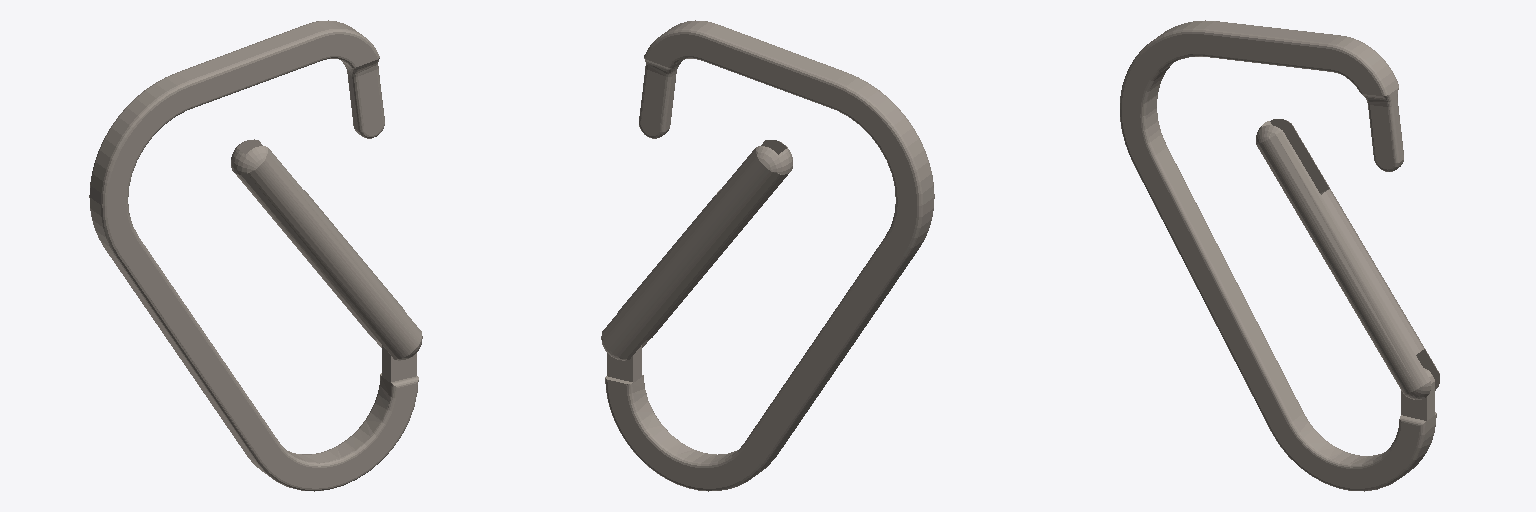
URDF robot description (safety_hook2):
<?xml version="1.0" encoding="utf-8"?>
<!-- This URDF was automatically created by SolidWorks to URDF Exporter! Originally created by Stephen Brawner (brawner@gmail.com) 
     Commit Version: 1.6.0-4-g7f85cfe  Build Version: 1.6.7995.38578
     For more information, please see http://wiki.ros.org/sw_urdf_exporter -->
<robot
  name="safety_hook2">
  <link
    name="base_link">
    <inertial>
      <origin
        xyz="-0.038059 3.6627E-07 0.030909"
        rpy="0 0 0" />
      <mass
        value="0.091619" />
      <inertia
        ixx="0.00015175"
        ixy="-1.4217E-09"
        ixz="3.0858E-05"
        iyy="0.00020773"
        iyz="1.3869E-09"
        izz="5.6672E-05" />
    </inertial>
    <visual>
      <origin
        xyz="0 0 0"
        rpy="0 0 0" />
      <geometry>
        <mesh
          filename="package://safety_hook2/meshes/base_link.STL" />
      </geometry>
      <material
        name="">
        <color
          rgba="0.65098 0.61961 0.58824 1" />
      </material>
    </visual>
    <collision>
      <origin
        xyz="0 0 0"
        rpy="0 0 0" />
      <geometry>
        <mesh
          filename="package://safety_hook2/meshes/hook_base_part_0.glb" />
      </geometry>
    </collision>
    <collision>
      <origin
        xyz="0 0 0"
        rpy="0 0 0" />
      <geometry>
        <mesh
          filename="package://safety_hook2/meshes/hook_base_part_1.glb" />
      </geometry>
    </collision>
    <collision>
      <origin
        xyz="0 0 0"
        rpy="0 0 0" />
      <geometry>
        <mesh
          filename="package://safety_hook2/meshes/hook_base_part_2.glb" />
      </geometry>
    </collision>
    <collision>
      <origin
        xyz="0 0 0"
        rpy="0 0 0" />
      <geometry>
        <mesh
          filename="package://safety_hook2/meshes/hook_base_part_3.glb" />
      </geometry>
    </collision>
    <collision>
      <origin
        xyz="0 0 0"
        rpy="0 0 0" />
      <geometry>
        <mesh
          filename="package://safety_hook2/meshes/hook_base_part_4.glb" />
      </geometry>
    </collision>
    <collision>
      <origin
        xyz="0 0 0"
        rpy="0 0 0" />
      <geometry>
        <mesh
          filename="package://safety_hook2/meshes/hook_base_part_5.glb" />
      </geometry>
    </collision>
    <collision>
      <origin
        xyz="0 0 0"
        rpy="0 0 0" />
      <geometry>
        <mesh
          filename="package://safety_hook2/meshes/hook_base_part_6.glb" />
      </geometry>
    </collision>
    <collision>
      <origin
        xyz="0 0 0"
        rpy="0 0 0" />
      <geometry>
        <mesh
          filename="package://safety_hook2/meshes/hook_base_part_7.glb" />
      </geometry>
    </collision>
    <collision>
      <origin
        xyz="0 0 0"
        rpy="0 0 0" />
      <geometry>
        <mesh
          filename="package://safety_hook2/meshes/hook_base_part_8.glb" />
      </geometry>
    </collision>
  </link>
  <link
    name="bar_Link">
    <inertial>
      <origin
        xyz="-0.0036666 -6.5586E-10 0.031652"
        rpy="0 0 0" />
      <mass
        value="0.03889" />
      <inertia
        ixx="1.4254E-05"
        ixy="-9.6088E-14"
        ixz="3.1646E-06"
        iyy="1.494E-05"
        iyz="7.2379E-13"
        izz="1.23E-06" />
    </inertial>
    <visual>
      <origin
        xyz="0 0 0"
        rpy="0 0 0" />
      <geometry>
        <mesh
          filename="package://safety_hook2/meshes/bar_Link.STL" />
      </geometry>
      <material
        name="">
        <color
          rgba="0.65098 0.61961 0.58824 1" />
      </material>
    </visual>
    <collision>
      <origin
        xyz="0 0 0"
        rpy="0 0 0" />
      <geometry>
        <mesh
          filename="package://safety_hook2/meshes/hook_bar_part_0.glb" />
      </geometry>
    </collision>
    <collision>
      <origin
        xyz="0 0 0"
        rpy="0 0 0" />
      <geometry>
        <mesh
          filename="package://safety_hook2/meshes/hook_bar_part_1.glb" />
      </geometry>
    </collision>
    <collision>
      <origin
        xyz="0 0 0"
        rpy="0 0 0" />
      <geometry>
        <mesh
          filename="package://safety_hook2/meshes/hook_bar_part_2.glb" />
      </geometry>
    </collision>
    <collision>
      <origin
        xyz="0 0 0"
        rpy="0 0 0" />
      <geometry>
        <mesh
          filename="package://safety_hook2/meshes/hook_bar_part_3.glb" />
      </geometry>
    </collision>
  </link>
  <joint
    name="joint_bar"
    type="revolute">
    <origin
      xyz="0 0 0"
      rpy="0 -0.02 0" />
    <parent
      link="base_link" />
    <child
      link="bar_Link" />
    <axis
      xyz="0 1 0" />
    <limit
      lower="-0.77"
      upper="-0.02"
      effort="0"
      velocity="0" />
  </joint>
</robot>

--- What the picture shows (computed from the rendered views, not written in the file) ---
The picture shows the robot from 3 angles, left to right: view 1: azimuth 30°, elevation 25°; view 2: azimuth 150°, elevation 25°; view 3: azimuth 330°, elevation 25°; orthographic projection.
Model safety_hook2 with 2 links and 1 joints (1 revolute), rooted at base_link, posed joints at zero except 1 at the middle of their limits (joint_bar = -0.395).
Links seen in each view (by area): view 1: base_link, bar_Link; view 2: base_link, bar_Link; view 3: base_link, bar_Link.
Boxes of the visible links, left/top/right/bottom form: base_link: left=89, top=20, right=418, bottom=491; bar_Link: left=231, top=139, right=422, bottom=360; base_link: left=605, top=20, right=934, bottom=491; bar_Link: left=601, top=140, right=792, bottom=360; base_link: left=1120, top=20, right=1436, bottom=491; bar_Link: left=1256, top=119, right=1439, bottom=399.
Size in the robot's own frame: 0.086 by 0.01 by 0.1172 metres.
Meshes: 2 distinct files referenced, 2 mesh visuals loaded (2 binary STL).
